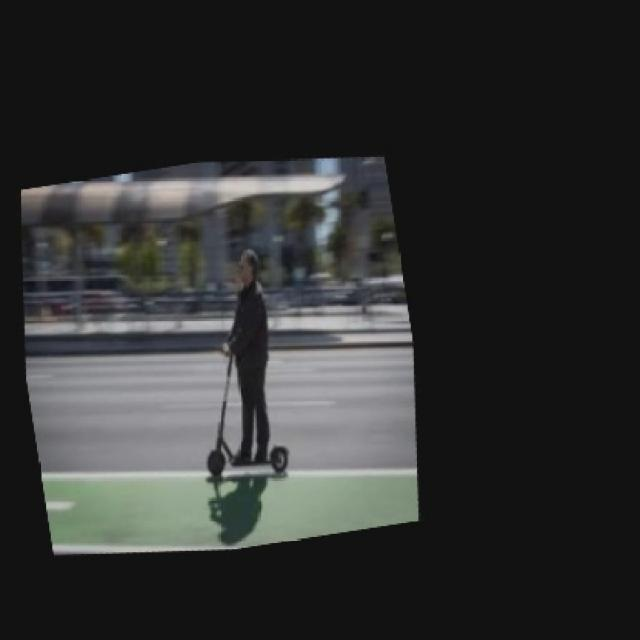bare_head: (219, 246, 276, 287)
human: (208, 233, 297, 460)
kickboard: (201, 431, 328, 478)
